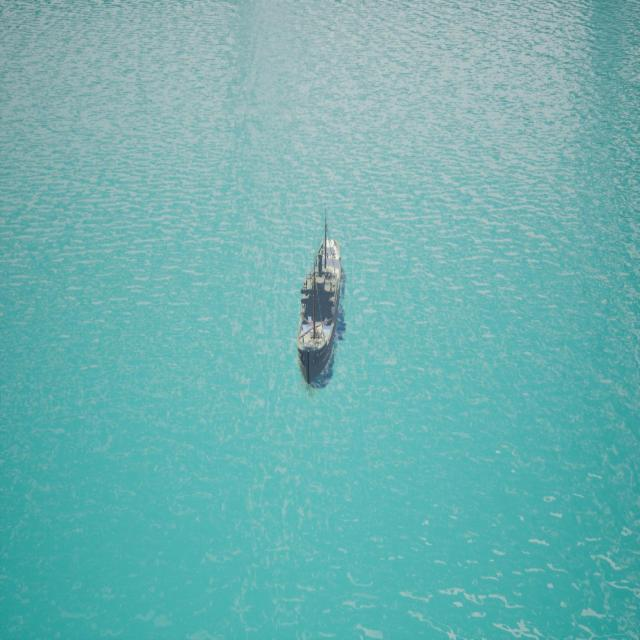fishing ship: (296, 222, 345, 391)
